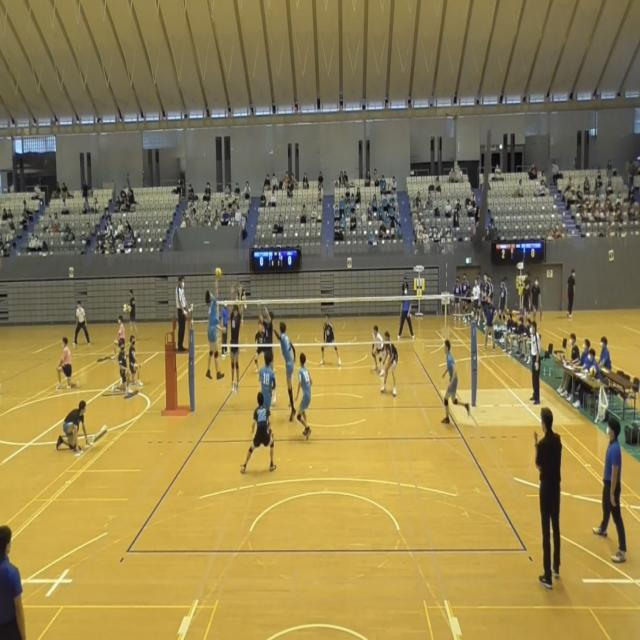spike: (201, 262, 229, 386)
